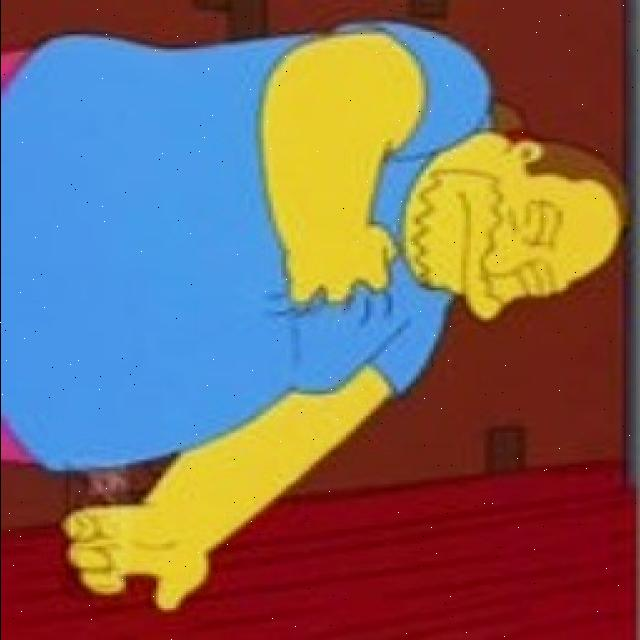Comic Book Guy: (395, 118, 630, 320)
